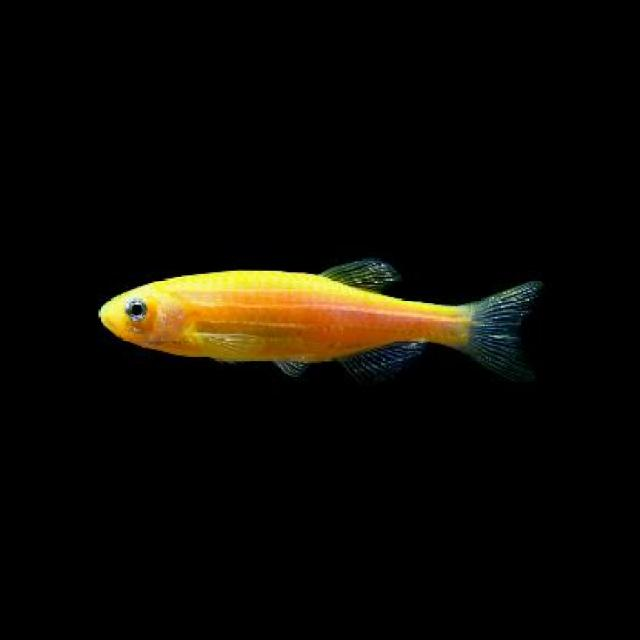ZebraFish: (99, 253, 542, 384)
